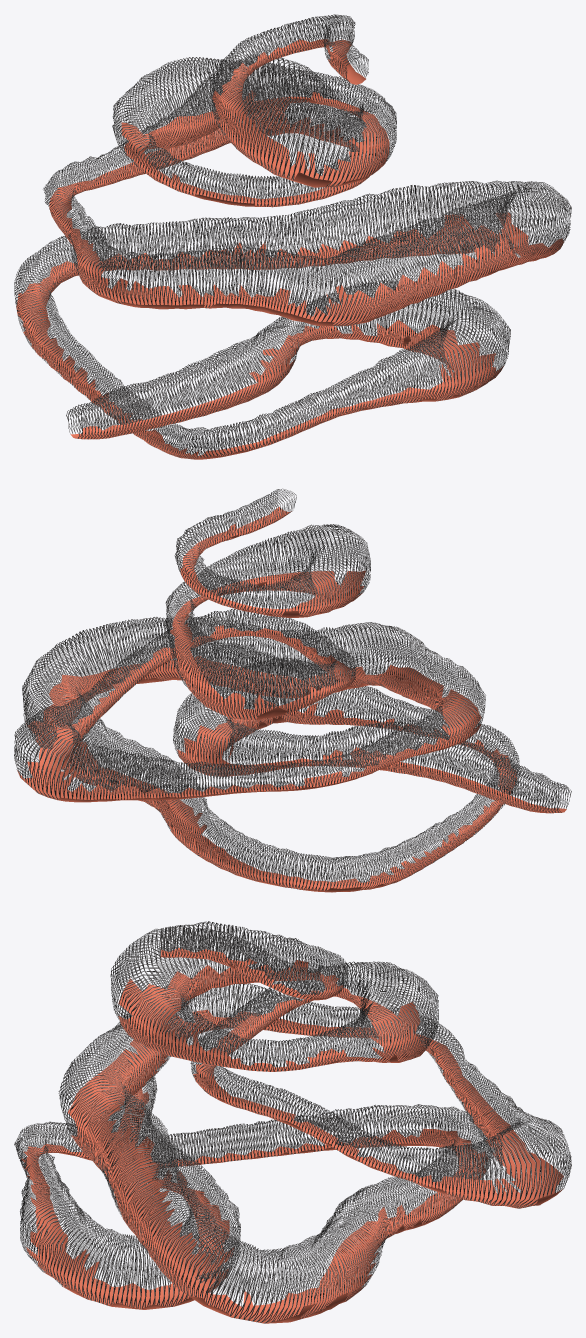
The model's file is cdi_pipe.fbx.
The picture shows the model from 3 angles, top to bottom: view 1: azimuth 30°, elevation 25°; view 2: azimuth 150°, elevation 25°; view 3: azimuth 270°, elevation 25°; orthographic projection. The views are drawn at different scales.
Parts seen in each view (by area): view 1: cdi pipe; view 2: cdi pipe; view 3: cdi pipe.
Part boxes in pixels (box(x1,y1,x2,y2)): cdi pipe: box(14, 14, 571, 459); cdi pipe: box(14, 488, 571, 892); cdi pipe: box(14, 921, 571, 1323).
Size of the model in its own units: 6288 by 3740 by 5499.
